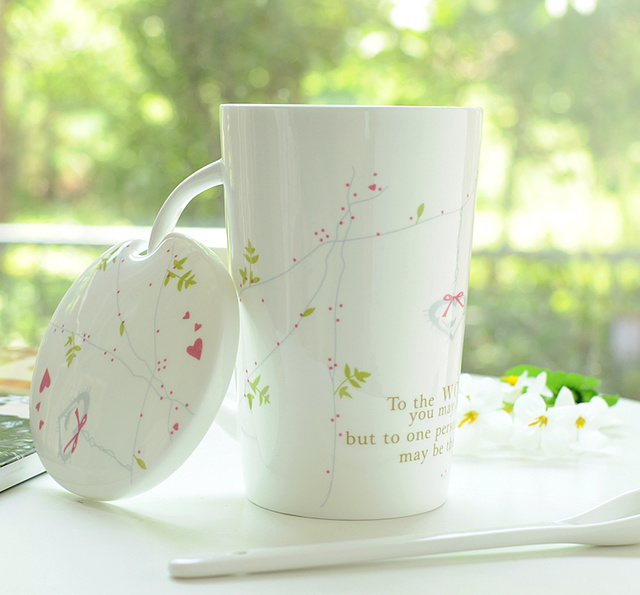cup: (129, 99, 491, 520)
